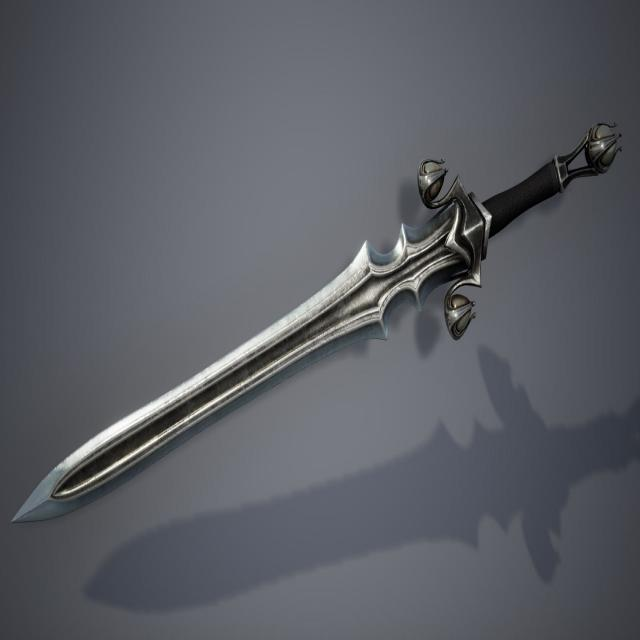sword: (10, 116, 626, 534)
